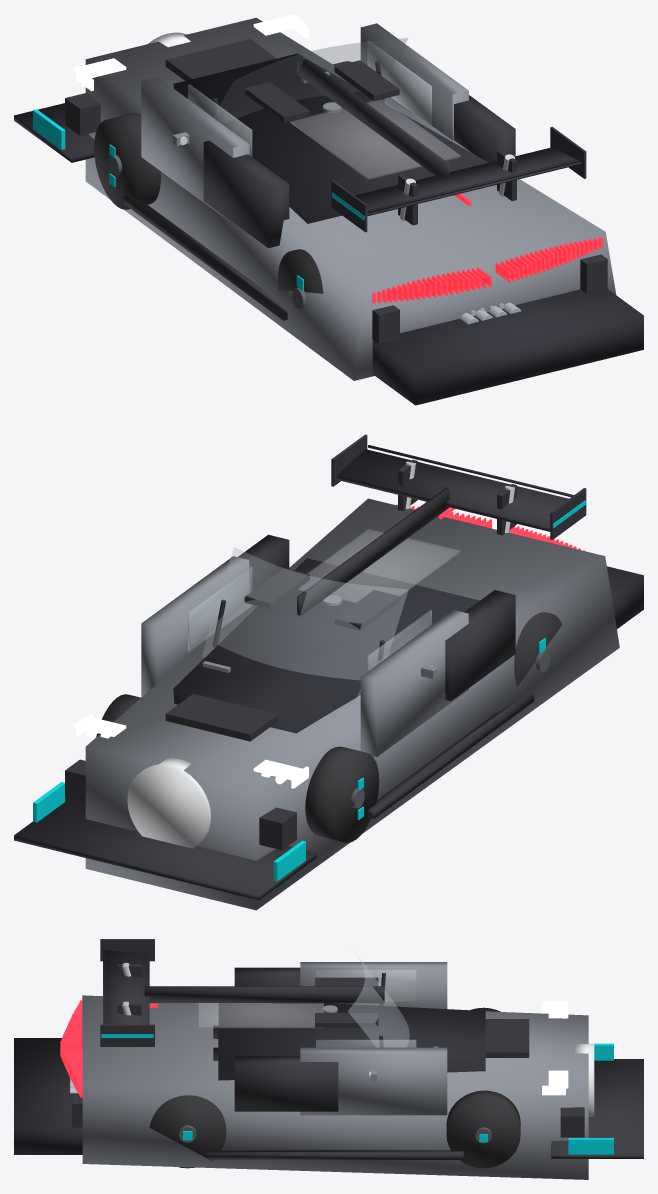
Rendered from complete-divo.glb.
3 renders of one model, top to bottom at view 1: azimuth 30°, elevation 25°; view 2: azimuth 150°, elevation 25°; view 3: azimuth 270°, elevation 25°, orthographic. The views are drawn at different scales.
Parts seen in each view (by area): view 1: BODY_Divo_Hypercar_Shell, CHASSIS_Carbon_Monocoque_Tub, AERO_Rear_Venturi_Diffuser_Assembly, BODY_Butterfly_Door_Panel_R, BODY_Side_Intercooler_Air_Scoop_R, GLASS_W16_Engine_Cover_Showcase, BODY_Butterfly_Door_Panel_L, GLASS_Hypercar_Windshield, WHEEL_Tire_Front_FR, AERO_Active_Rear_Wing_MainPlane, AERO_Bugatti_Atlantic_Center_Dorsal_Fin, BODY_Side_Intercooler_Air_Scoop_L (+17 smaller); view 2: BODY_Divo_Hypercar_Shell, CHASSIS_Carbon_Monocoque_Tub, GLASS_Hypercar_Windshield, AERO_Front_Carbon_Splitter_Tray, BODY_Butterfly_Door_Panel_R, AERO_Active_Rear_Wing_MainPlane, BODY_Butterfly_Door_Panel_L, BODY_Bugatti_Horseshoe_Grille_Bezel, WHEEL_Tire_Front_FR, BODY_Side_Intercooler_Air_Scoop_R, GLASS_W16_Engine_Cover_Showcase, AERO_Bugatti_Atlantic_Center_Dorsal_Fin (+16 smaller); view 3: BODY_Divo_Hypercar_Shell, CHASSIS_Carbon_Monocoque_Tub, BODY_Butterfly_Door_Panel_L, AERO_Rear_Venturi_Diffuser_Assembly, BODY_Side_Intercooler_Air_Scoop_L, AERO_Front_Carbon_Splitter_Tray, BODY_Butterfly_Door_Panel_R, WHEEL_Tire_Front_FL, AERO_Bugatti_Atlantic_Center_Dorsal_Fin, WHEEL_Tire_Rear_RL, GLASS_W16_Engine_Cover_Showcase, AERO_Active_Rear_Wing_MainPlane (+17 smaller).
Boxes of the visible parts, x1,y1,x2,y2 form: BODY_Divo_Hypercar_Shell: [85, 17, 616, 380]; CHASSIS_Carbon_Monocoque_Tub: [173, 53, 488, 223]; AERO_Rear_Venturi_Diffuser_Assembly: [372, 288, 643, 405]; BODY_Butterfly_Door_Panel_R: [141, 77, 249, 224]; BODY_Side_Intercooler_Air_Scoop_R: [203, 140, 289, 248]; GLASS_W16_Engine_Cover_Showcase: [290, 99, 459, 179]; BODY_Butterfly_Door_Panel_L: [360, 23, 468, 140]; GLASS_Hypercar_Windshield: [220, 38, 408, 118]; WHEEL_Tire_Front_FR: [94, 113, 160, 209]; AERO_Active_Rear_Wing_MainPlane: [355, 147, 581, 216]; AERO_Bugatti_Atlantic_Center_Dorsal_Fin: [297, 54, 449, 175]; BODY_Side_Intercooler_Air_Scoop_L: [454, 95, 515, 162]; BODY_Divo_Hypercar_Shell: [85, 498, 619, 910]; CHASSIS_Carbon_Monocoque_Tub: [173, 558, 479, 733]; GLASS_Hypercar_Windshield: [202, 547, 408, 697]; AERO_Front_Carbon_Splitter_Tray: [14, 797, 316, 900]; BODY_Butterfly_Door_Panel_R: [360, 609, 468, 756]; AERO_Active_Rear_Wing_MainPlane: [337, 449, 568, 531]; BODY_Butterfly_Door_Panel_L: [141, 556, 249, 697]; BODY_Bugatti_Horseshoe_Grille_Bezel: [127, 758, 210, 848]; WHEEL_Tire_Front_FR: [305, 746, 379, 842]; BODY_Side_Intercooler_Air_Scoop_R: [445, 590, 515, 701]; GLASS_W16_Engine_Cover_Showcase: [298, 528, 459, 602]; AERO_Bugatti_Atlantic_Center_Dorsal_Fin: [297, 487, 449, 616]; BODY_Divo_Hypercar_Shell: [82, 995, 588, 1179]; CHASSIS_Carbon_Monocoque_Tub: [218, 1003, 485, 1080]; BODY_Butterfly_Door_Panel_L: [300, 1047, 447, 1115]; AERO_Rear_Venturi_Diffuser_Assembly: [14, 1038, 82, 1154]; BODY_Side_Intercooler_Air_Scoop_L: [234, 1056, 338, 1111]; AERO_Front_Carbon_Splitter_Tray: [551, 1059, 643, 1158]; BODY_Butterfly_Door_Panel_R: [300, 962, 447, 1008]; WHEEL_Tire_Front_FL: [446, 1090, 520, 1168]; AERO_Bugatti_Atlantic_Center_Dorsal_Fin: [144, 986, 384, 1003]; WHEEL_Tire_Rear_RL: [149, 1095, 226, 1168]; GLASS_W16_Engine_Cover_Showcase: [199, 1003, 323, 1027]; AERO_Active_Rear_Wing_MainPlane: [104, 949, 149, 1024].
Size of the model in its own units: 2.25 by 1.71 by 5.77.
